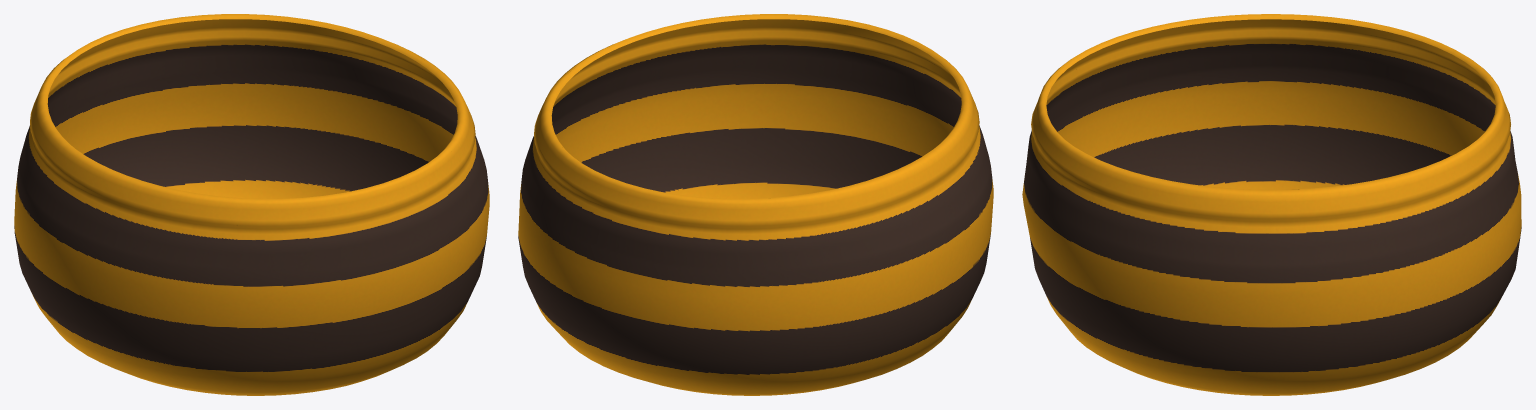
Rendered from abdomen.fbx.
3 views of the same model, side by side, from view 1: azimuth 30°, elevation 25°; view 2: azimuth 150°, elevation 25°; view 3: azimuth 270°, elevation 25° (orthographic). The views are drawn at different scales.
Visible parts, largest first — view 1: abdomen; view 2: abdomen; view 3: abdomen.
Part boxes in pixels (x1,y1,x2,y2): abdomen: (14,14,489,395); abdomen: (518,14,993,395); abdomen: (1022,14,1521,395).
Bounding box in the file's own units: 72.01 × 36.3 × 74.86.
1 material, 1 textured.
